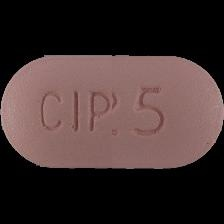69097-125: (0, 0, 224, 224)
